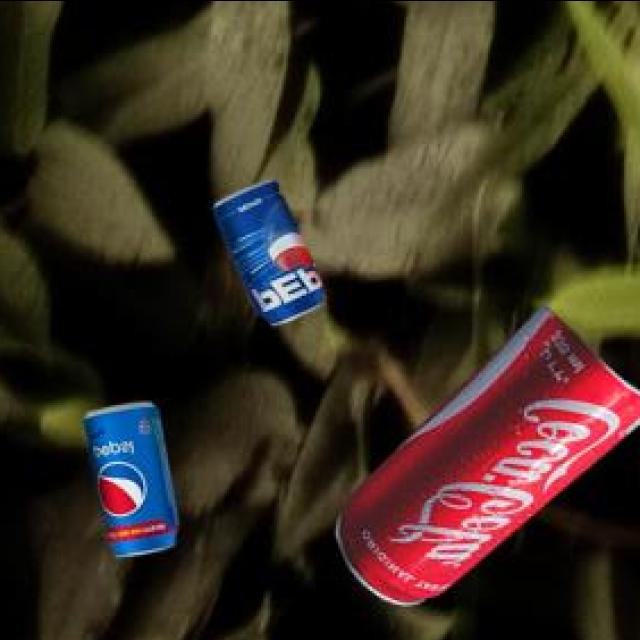logam: (332, 303, 640, 600), (210, 176, 319, 321), (81, 398, 174, 551)
